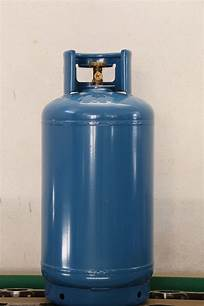blue_gas: (42, 48, 154, 306)
